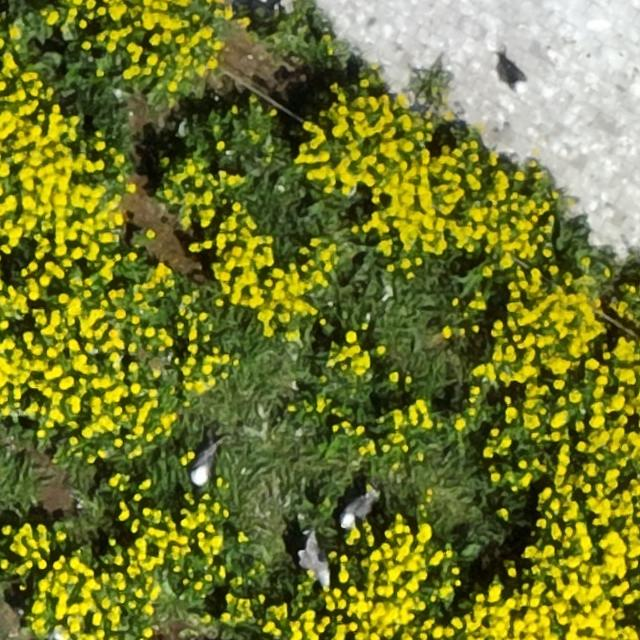umineko: (341, 494, 372, 526), (191, 451, 212, 485), (499, 61, 524, 89)
